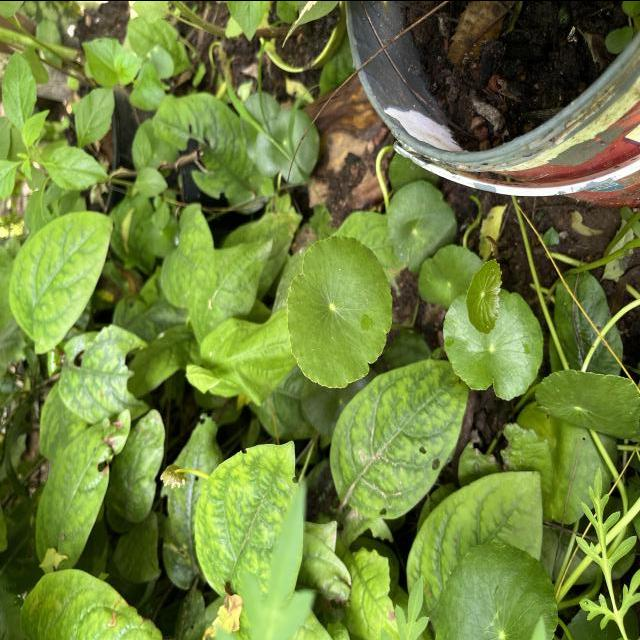Bacopa monnieri: (285, 233, 394, 389), (432, 540, 560, 640), (441, 286, 545, 400), (464, 256, 504, 336)
